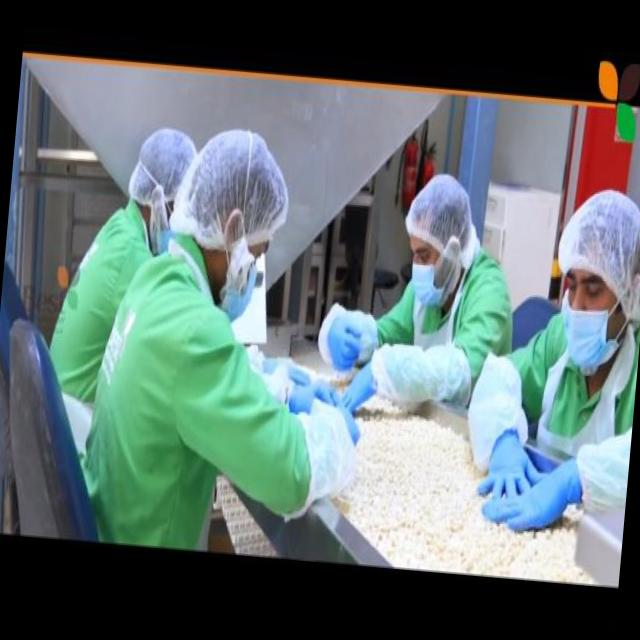hairnet: (169, 125, 292, 246), (555, 192, 640, 297), (397, 166, 477, 257), (128, 126, 190, 207)
